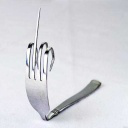fork: (21, 9, 128, 128)
